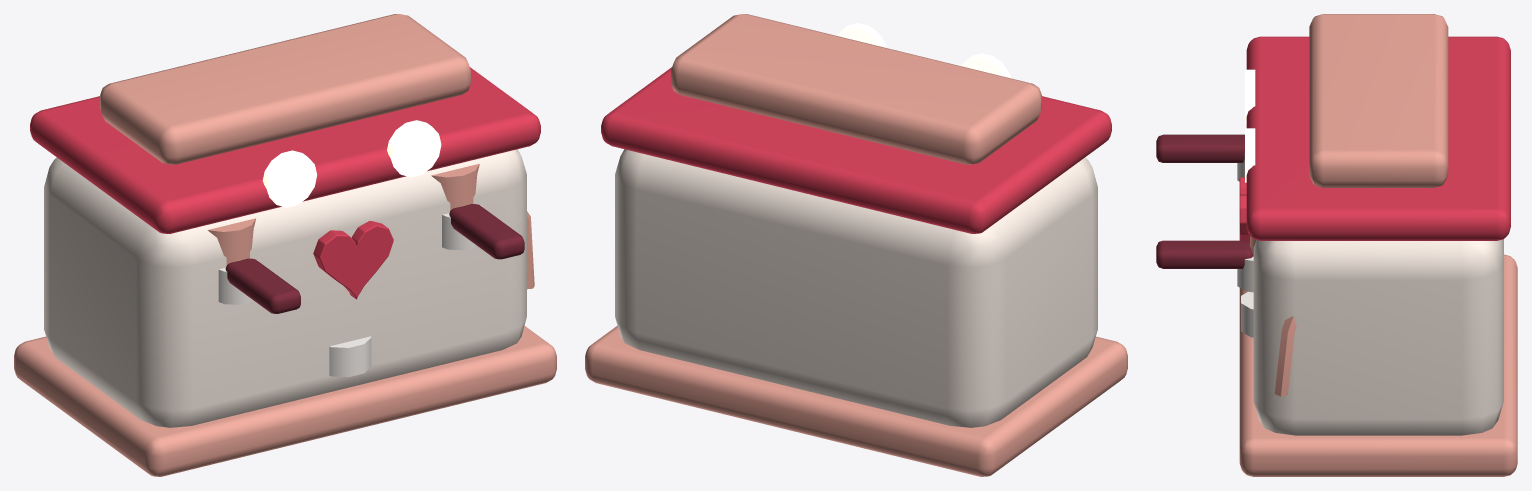
The model's file is espresso_machine.glb.
3 views of the same model, side by side, from view 1: azimuth 30°, elevation 25°; view 2: azimuth 150°, elevation 25°; view 3: azimuth 270°, elevation 25° (orthographic). The views are drawn at different scales.
Parts seen in each view (by area): view 1: espresso_machine; view 2: espresso_machine; view 3: espresso_machine.
Boxes of the visible parts, left/top/right/bottom form: espresso_machine: left=14, top=14, right=556, bottom=476; espresso_machine: left=585, top=14, right=1127, bottom=476; espresso_machine: left=1156, top=14, right=1517, bottom=476.
Bounding box in the file's own units: 0.66 × 0.49 × 0.52.
